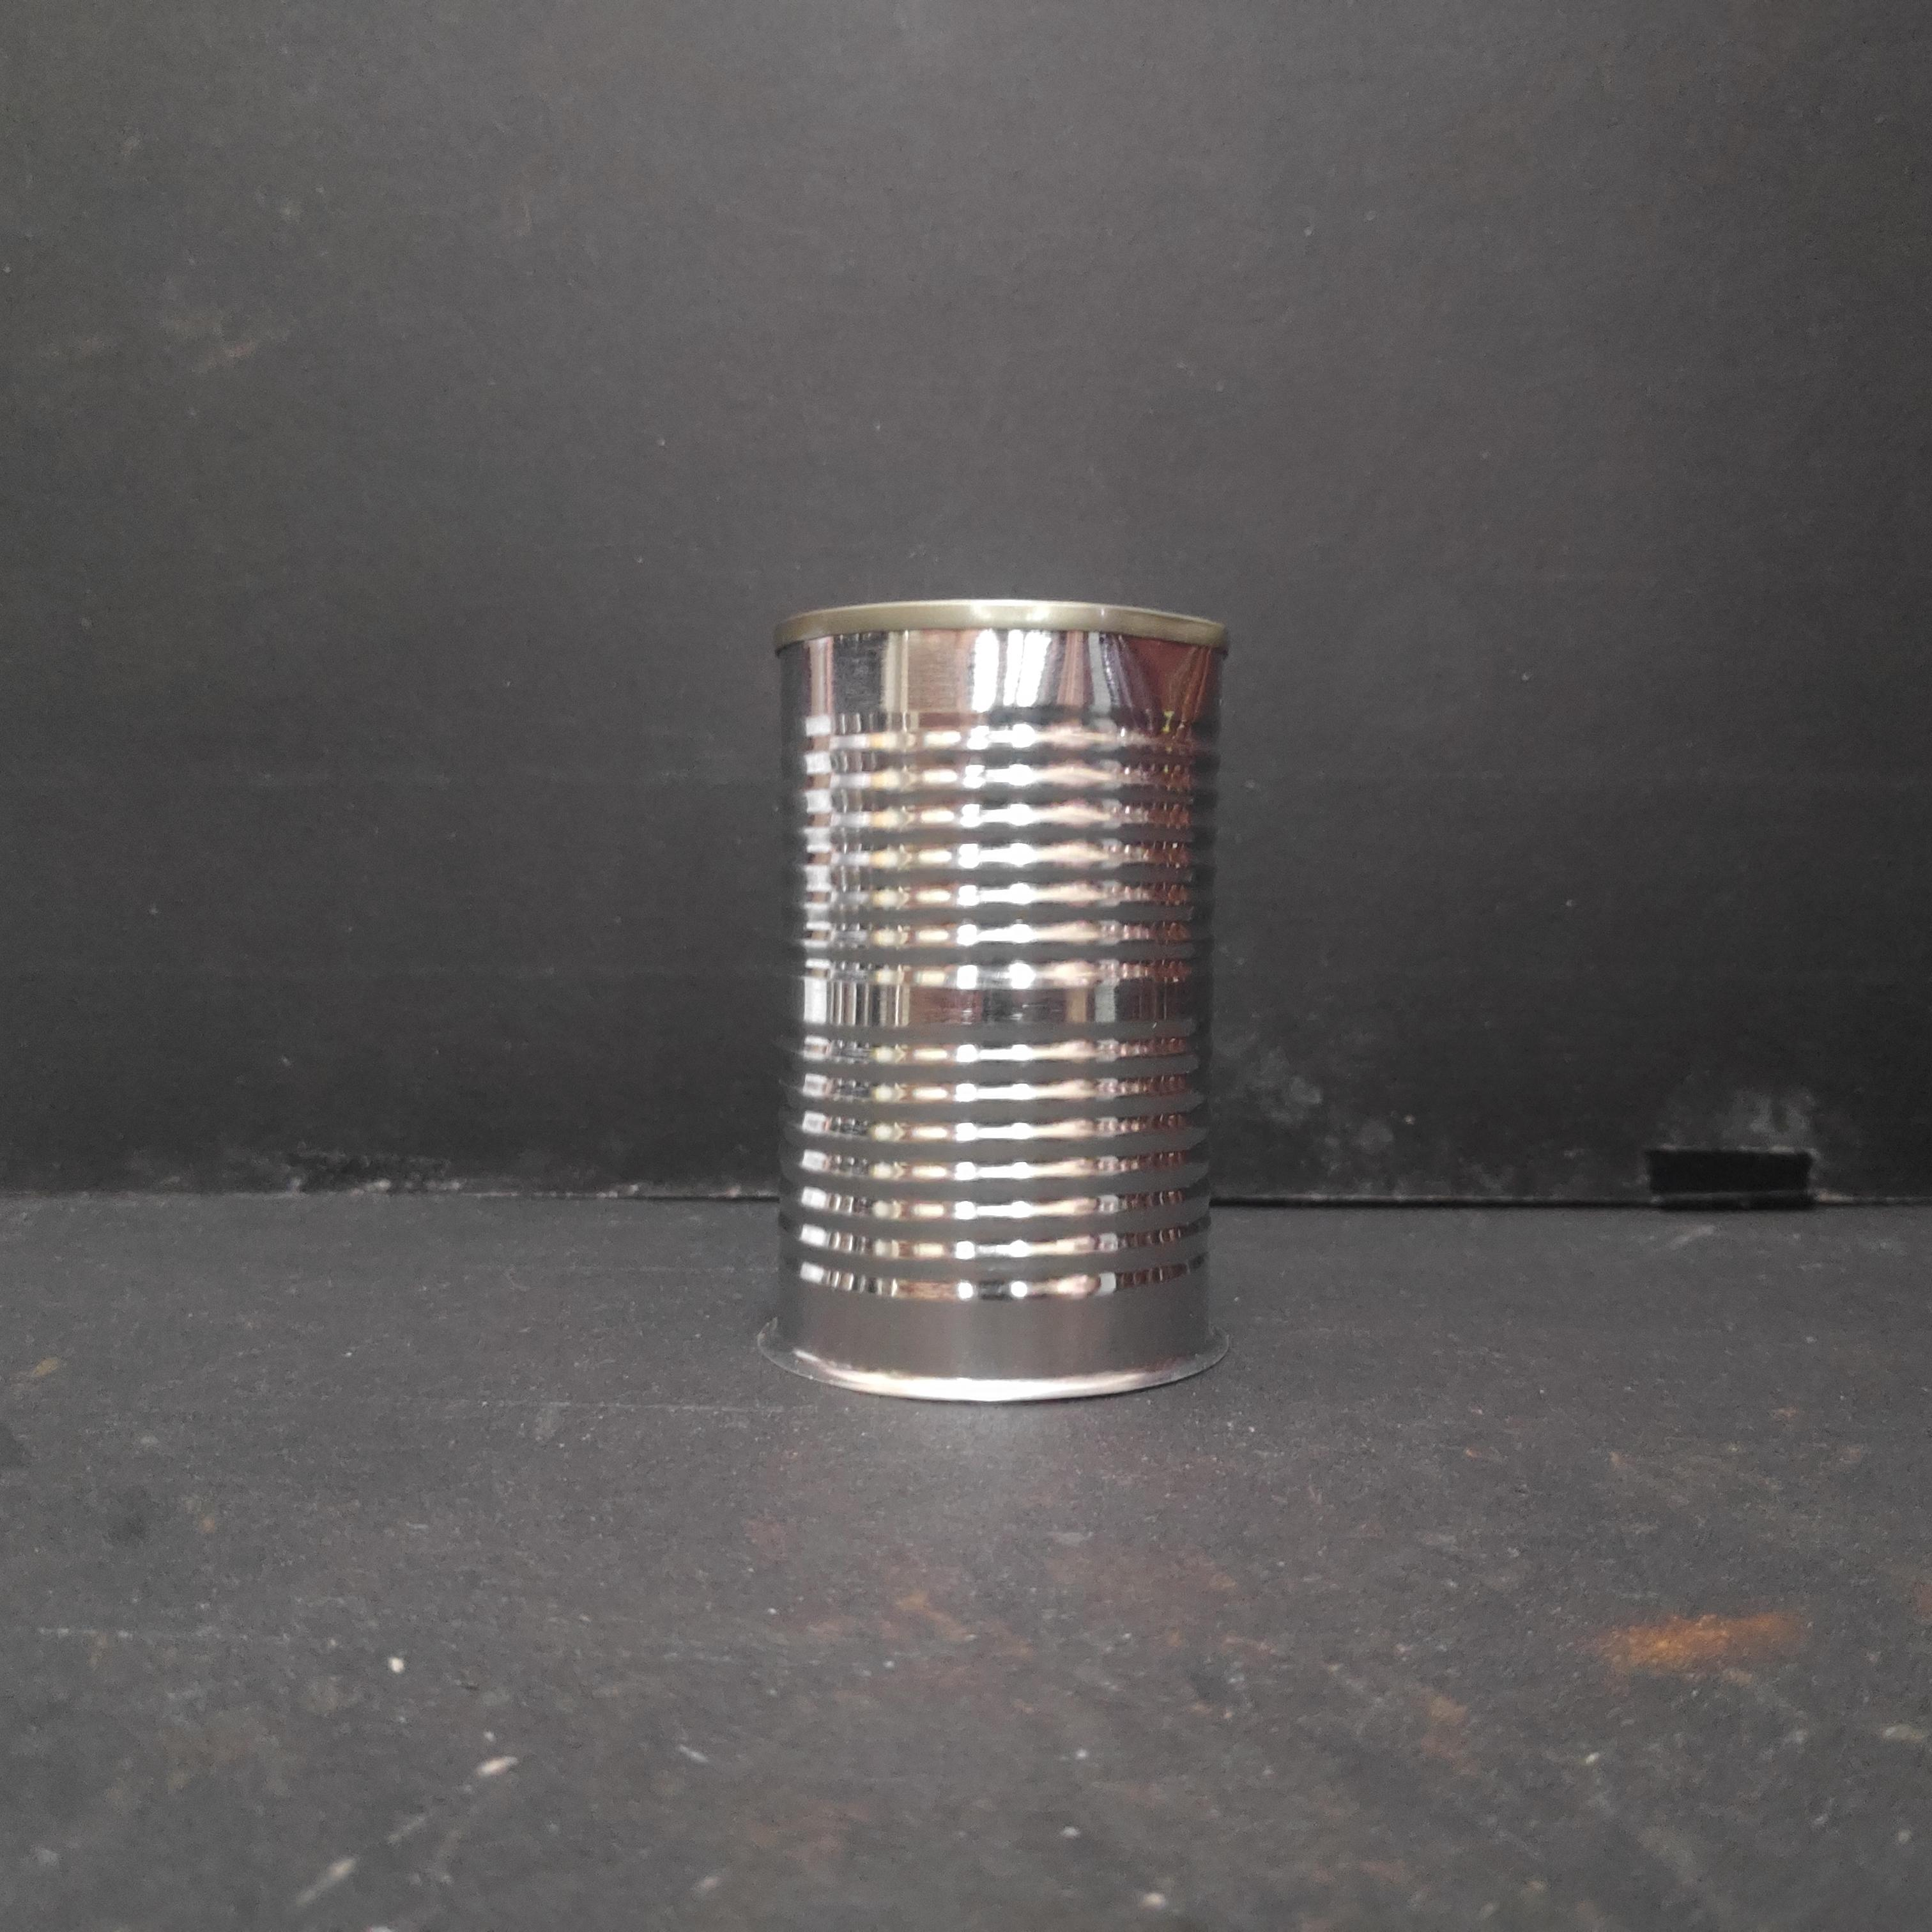Minor Defect: (768, 585, 1225, 1416)
